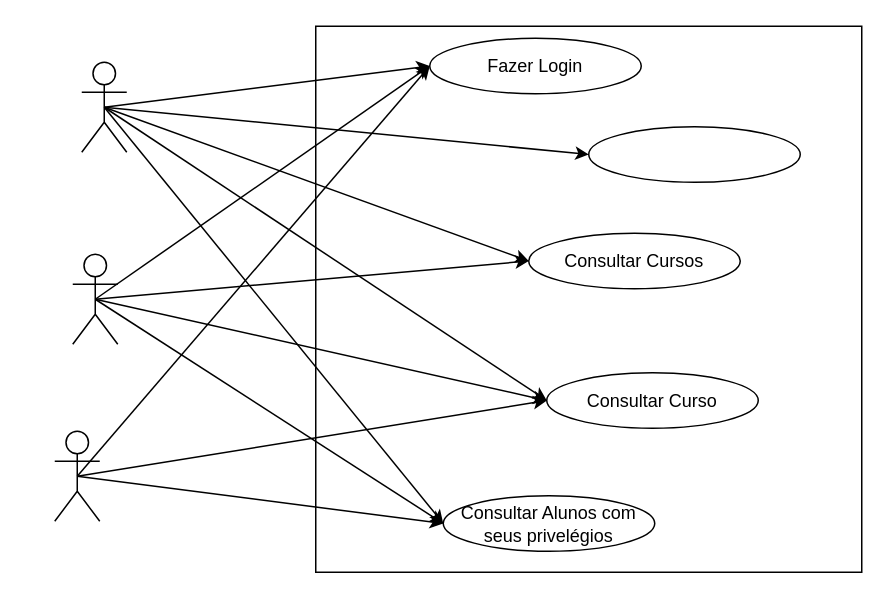
The diagram is 888 pixels wide and 599 high, and some of its shapes have lost their labels. The shapes that lost their labels are listed below. From the top down, each one's centre as x and y in pixels, then its label:
At (103,106): "Reitor Admin".
At (94,298): "Dir Centro".
At (76,475): "Coord Curso".
